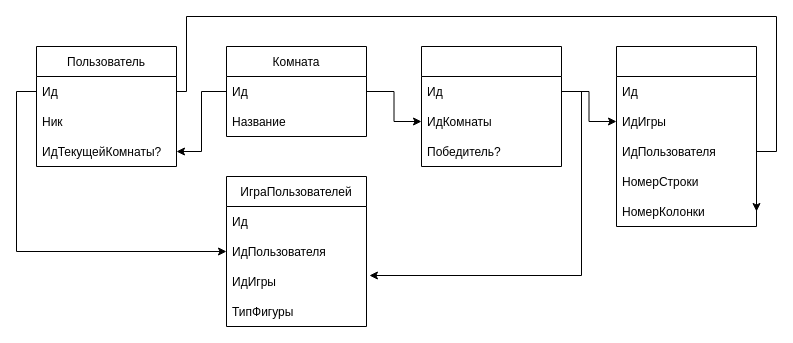
Some shapes in this 793 by 343 pixel diagram are drawn without their labels. The shapes that lost their labels are listed below. From the top down, each one's box as (x1, y1, x2, y2) in pixels, then its label:
(420, 46, 562, 166): Игра
(616, 46, 756, 226): ХодИгры
